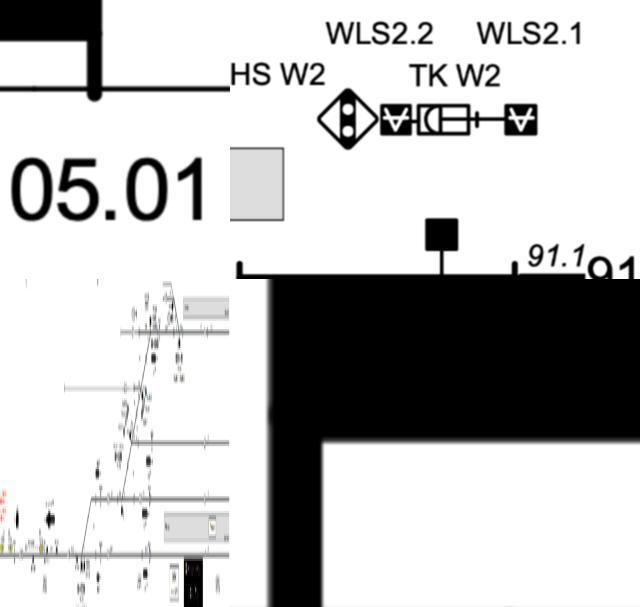mainsignal: (95, 468, 102, 479)
radzaehler: (230, 279, 640, 607), (0, 0, 122, 122), (454, 266, 507, 279), (56, 545, 59, 556), (46, 544, 48, 557), (76, 554, 78, 564)
trackjoint: (230, 251, 253, 279), (149, 489, 152, 508), (126, 459, 129, 475), (94, 547, 97, 563), (149, 547, 152, 563), (206, 325, 208, 342), (145, 351, 147, 366), (133, 492, 135, 505), (157, 327, 159, 340), (137, 438, 139, 450), (135, 409, 137, 421), (142, 549, 144, 561), (181, 328, 183, 339), (173, 328, 175, 339), (95, 493, 96, 504)
tracknumber: (106, 485, 110, 512), (18, 548, 24, 562), (138, 491, 142, 506), (203, 490, 206, 507), (106, 549, 110, 561), (67, 545, 70, 560), (123, 382, 127, 393), (164, 293, 167, 307), (131, 324, 134, 338), (204, 434, 206, 450), (204, 550, 206, 564), (204, 326, 205, 336)
weiche: (419, 209, 464, 279), (127, 428, 132, 452), (120, 493, 124, 520), (82, 545, 85, 577), (139, 381, 143, 402), (178, 324, 181, 351), (171, 297, 175, 311), (80, 548, 82, 574), (149, 316, 151, 334)
